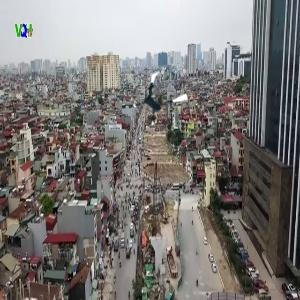drone: (134, 72, 190, 128)
